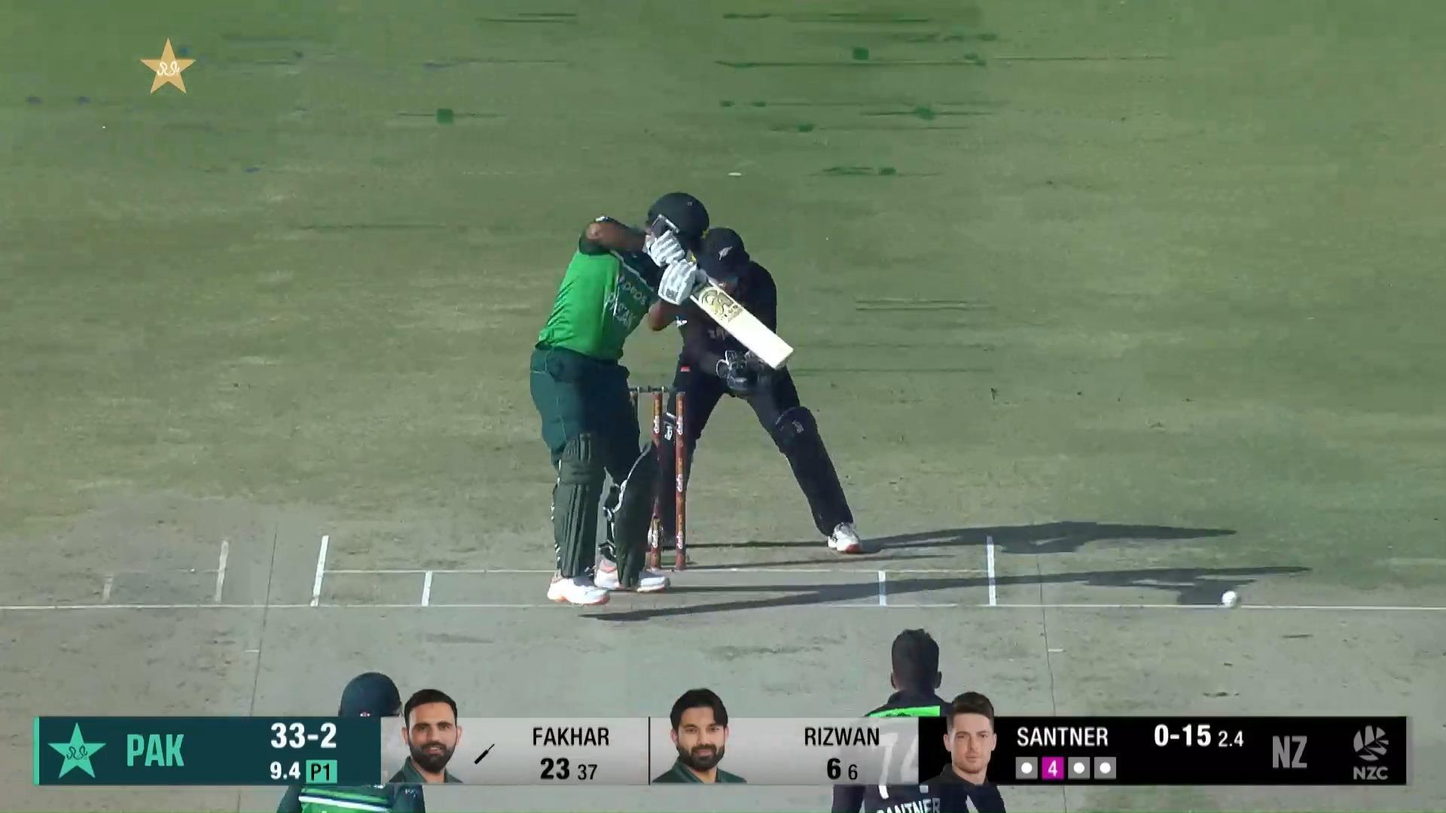BM 1: (529, 188, 796, 608)
BO: (829, 626, 1010, 813)
